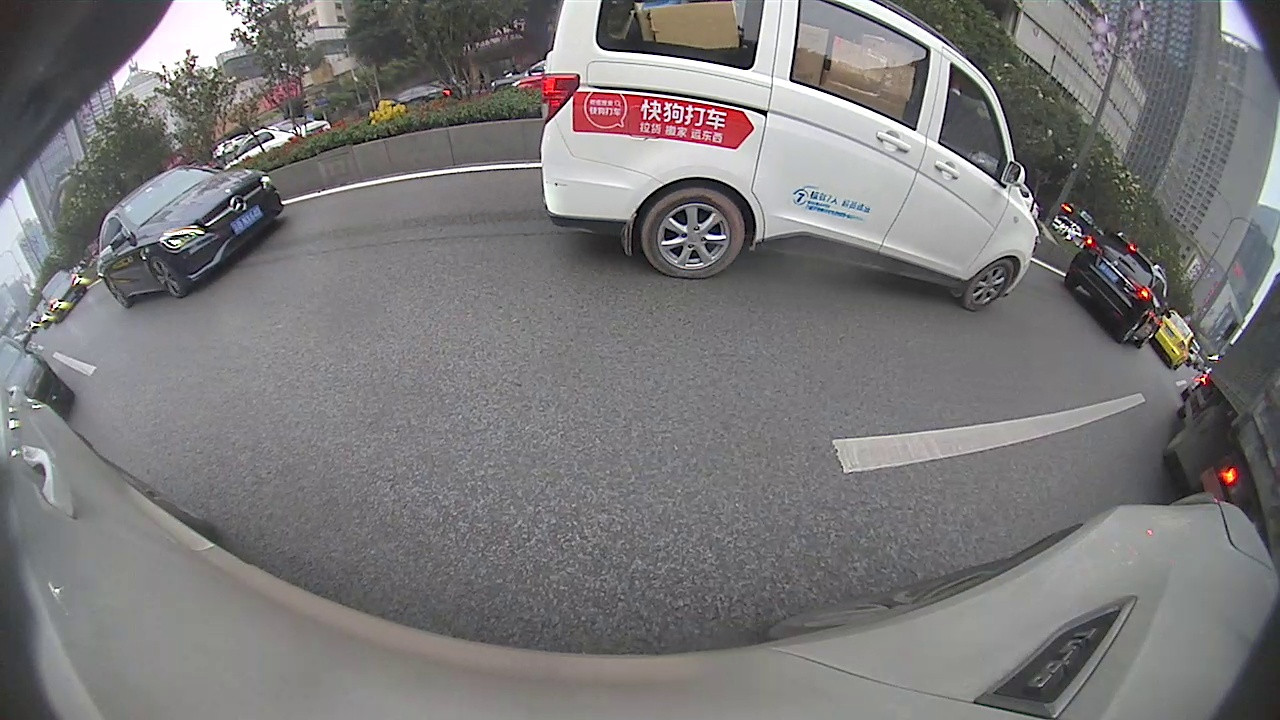car: (902, 183, 1091, 283), (887, 183, 965, 223), (763, 162, 838, 203), (708, 161, 755, 191)
front: (908, 205, 932, 233), (889, 198, 907, 219)
rear: (1001, 233, 1028, 271), (789, 183, 800, 199)
